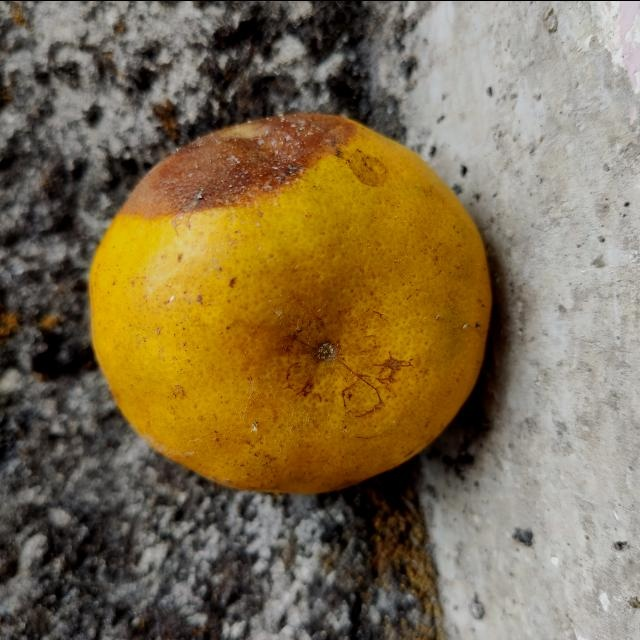agrume: (85, 109, 491, 491)
